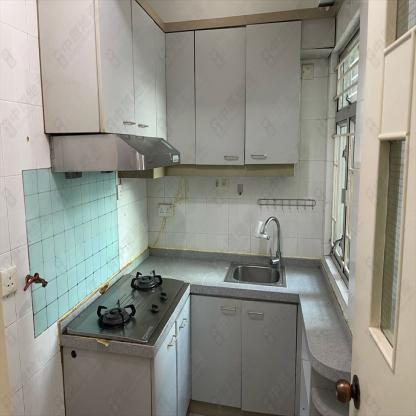Cupboard: (95, 0, 303, 166), (150, 291, 299, 414)
Exhaust Hood: (50, 132, 181, 179)
Faucet: (261, 213, 285, 266)
Sink: (224, 262, 285, 287)
Stove: (63, 269, 190, 345)
